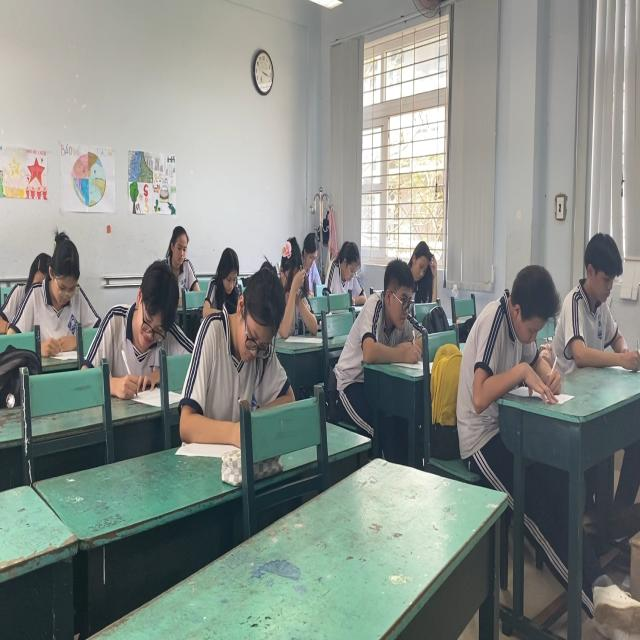not_cheating: (471, 257, 561, 406), (207, 247, 280, 419), (102, 254, 191, 388), (566, 229, 640, 363), (24, 229, 98, 354), (362, 264, 421, 349), (271, 226, 312, 333), (154, 212, 203, 298), (323, 240, 362, 298), (413, 236, 440, 294)
